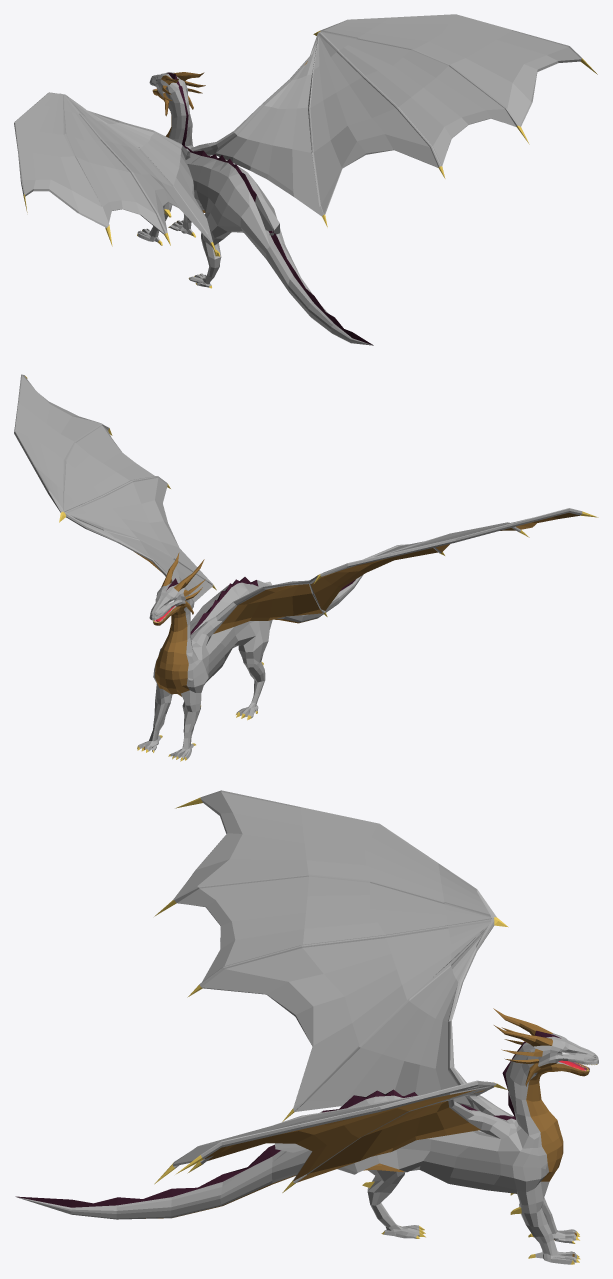
File: Dragon_Into_Pieces (2).fbx
The picture shows the model from 3 angles, top to bottom: view 1: azimuth 30°, elevation 25°; view 2: azimuth 150°, elevation 25°; view 3: azimuth 270°, elevation 25°; orthographic projection. The views are drawn at different scales.
Visible parts, largest first — view 1: polySurface3, polySurface5, polySurface7, polySurface11, polySurface1, polySurface9; view 2: polySurface3, polySurface7, polySurface5, polySurface1, polySurface9, polySurface11; view 3: polySurface5, polySurface7, polySurface3, polySurface11, polySurface1, polySurface9.
Part boxes in pixels (left/top/right/bottom): polySurface3: left=207, top=14, right=597, bottom=227; polySurface5: left=14, top=92, right=216, bottom=254; polySurface7: left=137, top=101, right=273, bottom=288; polySurface11: left=240, top=203, right=373, bottom=345; polySurface1: left=149, top=72, right=205, bottom=116; polySurface9: left=168, top=195, right=279, bottom=237; polySurface3: left=14, top=374, right=216, bottom=608; polySurface7: left=153, top=577, right=272, bottom=761; polySurface5: left=191, top=508, right=598, bottom=646; polySurface1: left=149, top=552, right=205, bottom=625; polySurface9: left=137, top=580, right=272, bottom=752; polySurface11: left=274, top=575, right=362, bottom=623; polySurface5: left=154, top=790, right=510, bottom=1121; polySurface7: left=323, top=1061, right=579, bottom=1243; polySurface3: left=154, top=1080, right=507, bottom=1192; polySurface11: left=15, top=1111, right=322, bottom=1219; polySurface1: left=493, top=1008, right=598, bottom=1086; polySurface9: left=275, top=1111, right=580, bottom=1264.
Bounding box in the file's own units: 1983 × 717 × 1337.
